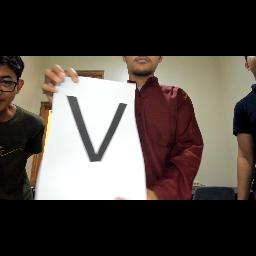v: (59, 90, 131, 168)
